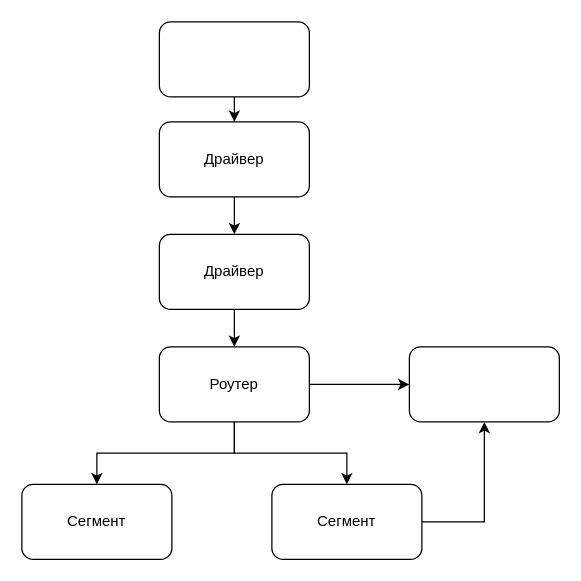
The diagram is 581 pixels wide and 581 high, and some of its shapes have lost their labels. Here are the shapes that lost their labels. From the top down, the centre of each, then its label:
At (x=233, y=59): "pymongo-api".
At (x=483, y=384): "Сервер конфигураций".
